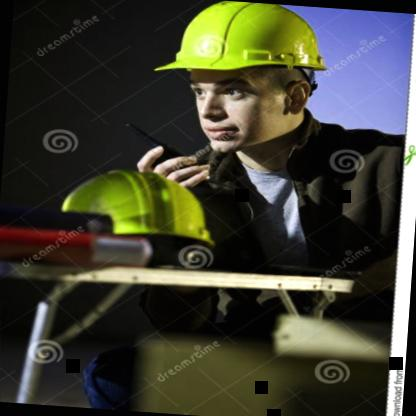helmet: (144, 0, 344, 165)
